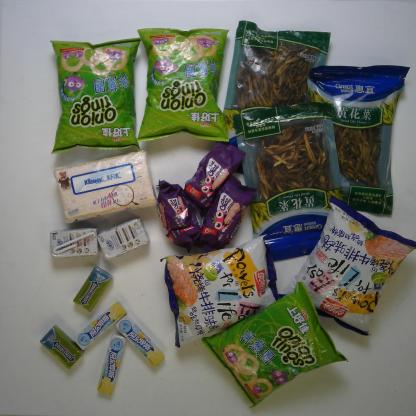Candy: (72, 300, 128, 350), (115, 316, 164, 366), (98, 332, 126, 396)
Dessert: (182, 141, 246, 214), (200, 176, 255, 249), (155, 180, 200, 252)
Dried Food: (215, 19, 331, 174), (238, 101, 345, 264), (305, 63, 411, 219)
Gum: (38, 324, 84, 368), (74, 265, 112, 310)
Milk: (96, 217, 148, 259), (50, 226, 98, 259)
Puffed Food: (202, 282, 349, 408), (291, 195, 414, 336), (160, 233, 286, 346), (134, 25, 231, 144), (50, 36, 142, 154)
Tissue: (53, 148, 156, 224)
